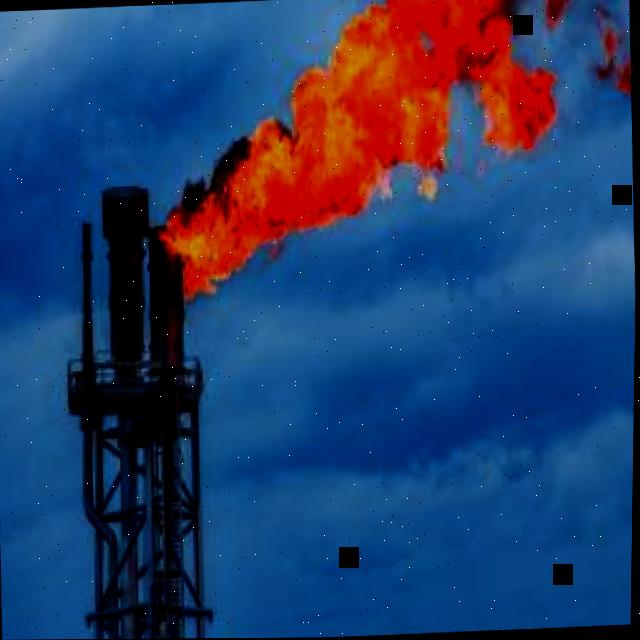fire: (162, 0, 558, 303), (595, 7, 631, 97), (546, 0, 573, 30)
smoke: (182, 136, 249, 205)
